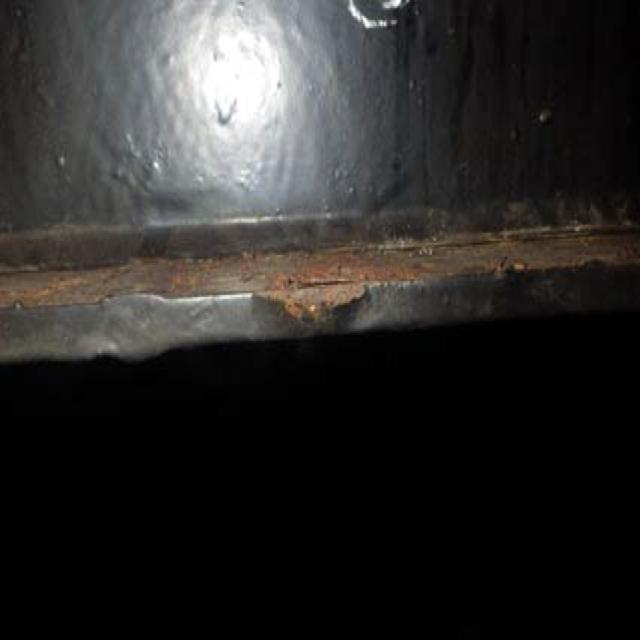corrosion: (27, 242, 410, 317)
